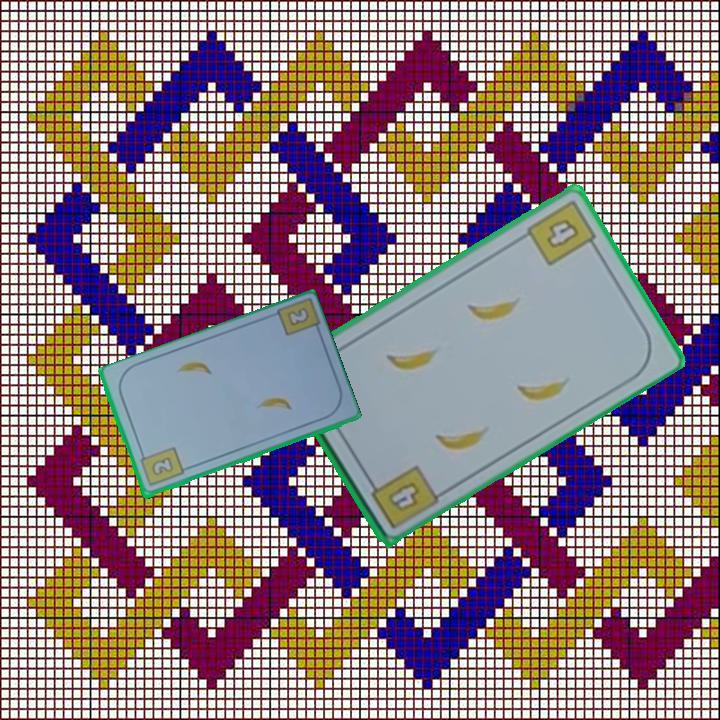2b: (136, 444, 186, 490), (283, 303, 312, 330)
4b: (523, 195, 602, 269), (363, 461, 439, 532)
